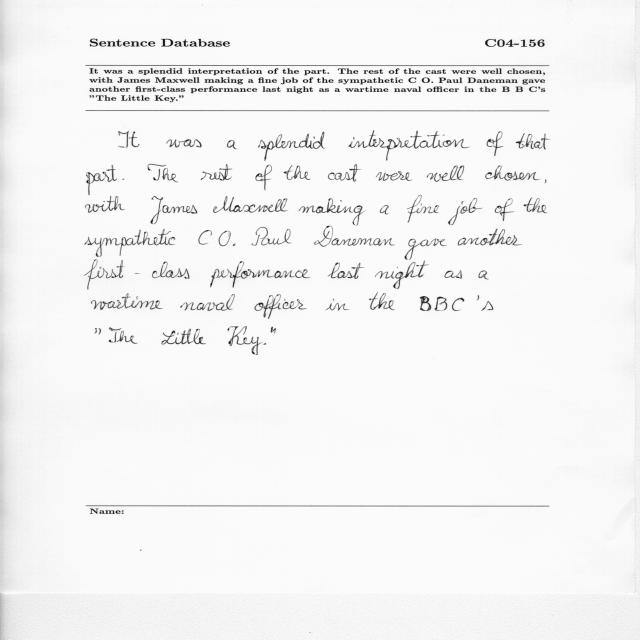word: (349, 131, 470, 161), (85, 260, 190, 290), (210, 261, 311, 288), (85, 229, 175, 257), (258, 132, 325, 161), (299, 198, 365, 226), (314, 226, 395, 247), (375, 260, 428, 289), (255, 294, 307, 319), (151, 196, 197, 224), (213, 196, 288, 213), (91, 293, 163, 310), (420, 295, 493, 311), (458, 229, 522, 246), (228, 327, 263, 355), (448, 198, 483, 225), (180, 294, 235, 311), (405, 238, 447, 260), (87, 165, 117, 195), (407, 195, 439, 223), (485, 166, 540, 181), (251, 227, 292, 246), (161, 329, 206, 345), (85, 196, 125, 213), (427, 165, 464, 182), (515, 133, 550, 150), (328, 164, 361, 182), (328, 263, 364, 279), (148, 164, 179, 182), (198, 230, 231, 246), (201, 164, 232, 181), (109, 327, 138, 344), (369, 292, 395, 310), (495, 198, 514, 221), (255, 165, 272, 190), (284, 165, 311, 180), (487, 131, 503, 156), (376, 171, 412, 181), (119, 131, 140, 148), (524, 198, 547, 213), (166, 139, 202, 147), (326, 299, 350, 311), (444, 270, 462, 279), (478, 271, 489, 280), (227, 140, 237, 149), (380, 205, 389, 214), (95, 328, 101, 335), (271, 327, 276, 334), (544, 179, 547, 183), (233, 243, 236, 246), (264, 343, 267, 345), (122, 178, 124, 180)
